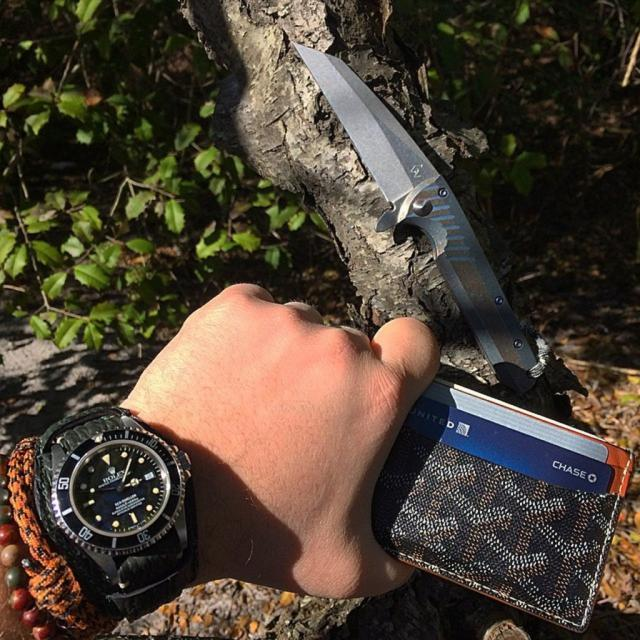Knife: (296, 44, 550, 404)
